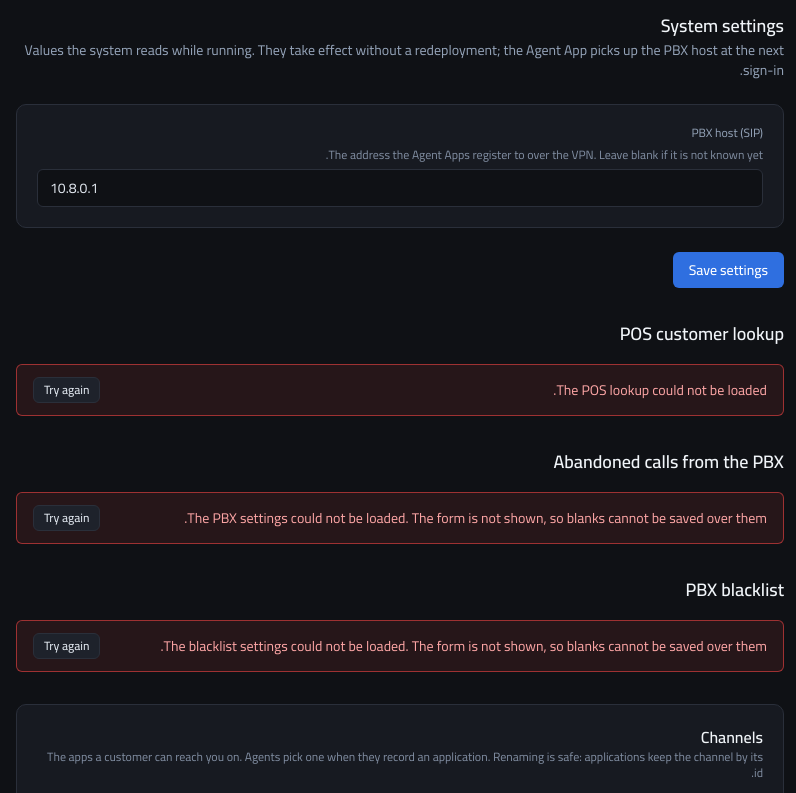
it: settings › says "not saved" when a save fails without naming a field (M-W04)
The image size is (796, 793).
Click the button "Save settings" at x=728, y=270, box left=673, top=252, right=784, bottom=288
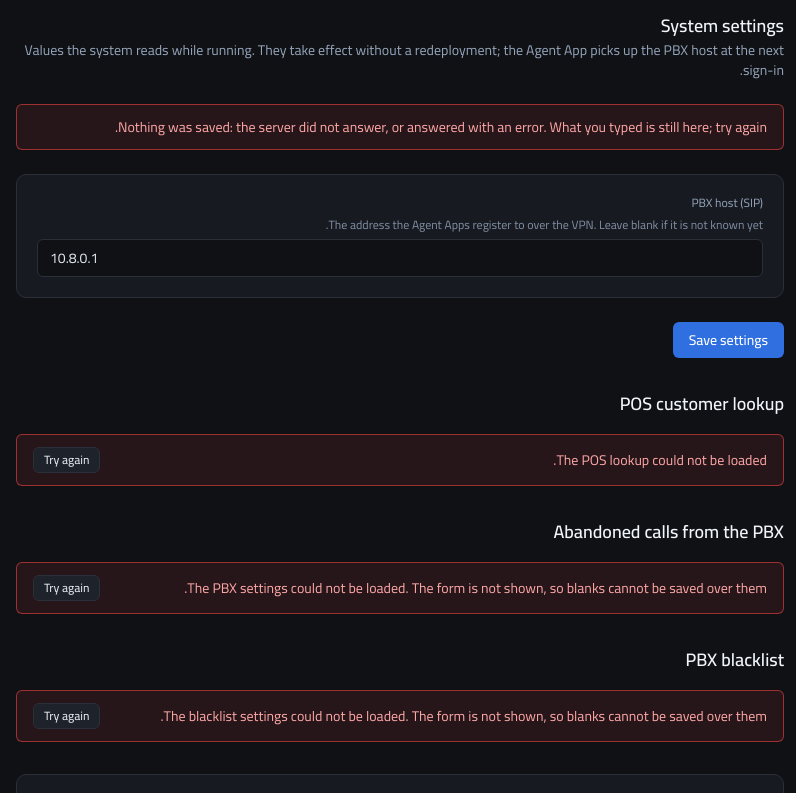
Expected: the field showing "10.8.0.1" is shown, left=37, top=239, right=763, bottom=277
Expected: the text "Nothing was saved: the server did not answer" is shown, left=115, top=114, right=767, bottom=140
